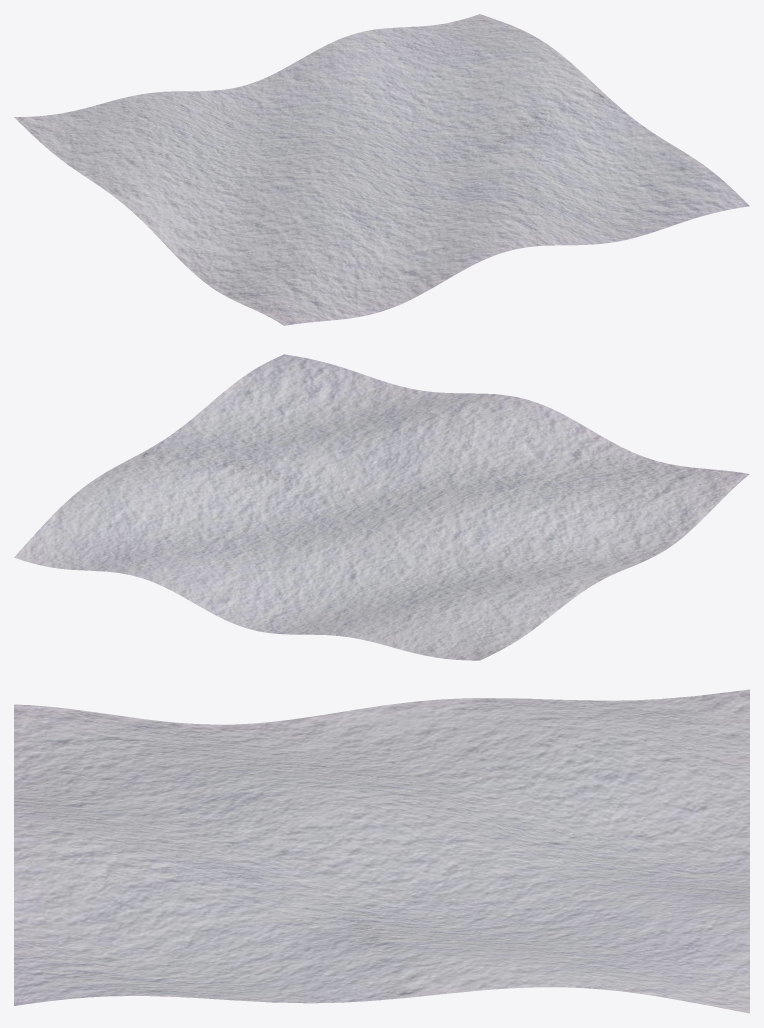
The model's file is podloze.obj.
3 renders of one model, top to bottom at view 1: azimuth 30°, elevation 25°; view 2: azimuth 150°, elevation 25°; view 3: azimuth 270°, elevation 25°, orthographic. The views are drawn at different scales.
Visible parts, largest first — view 1: Plane01; view 2: Plane01; view 3: Plane01.
Part boxes in pixels (left/top/right/bottom): Plane01: left=14, top=14, right=749, bottom=325; Plane01: left=14, top=354, right=749, bottom=660; Plane01: left=14, top=689, right=749, bottom=1013.
Bounding box in the file's own units: 18031 × 1347 × 18109.
1 material, 1 textured.
